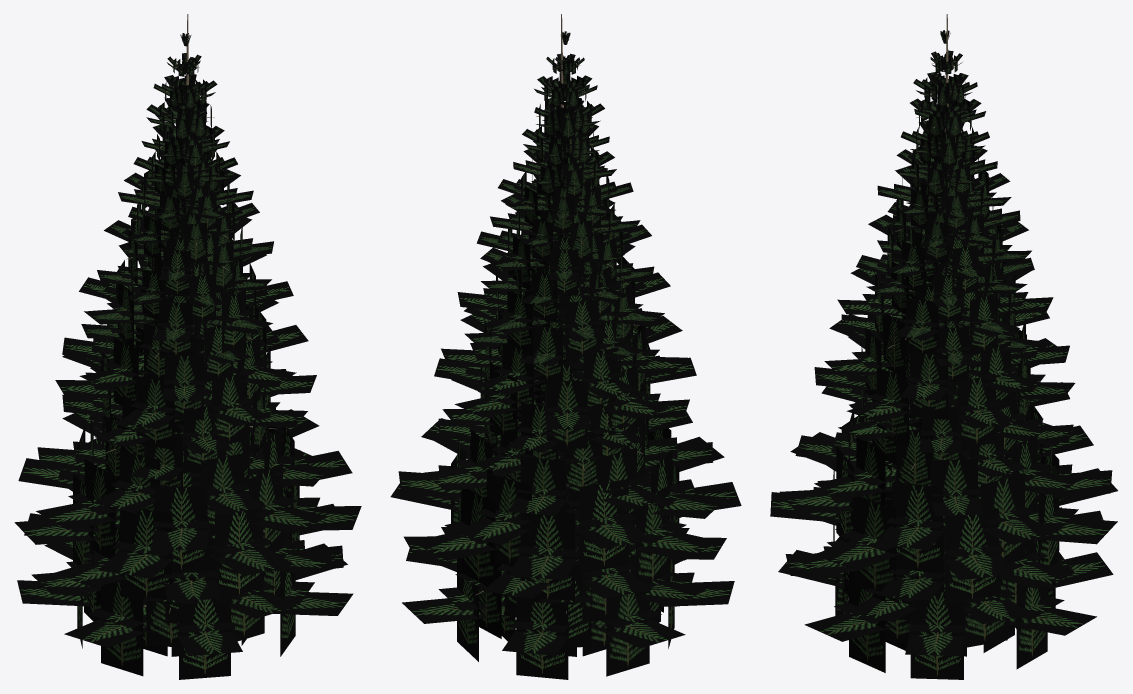
Rendered from Spruce_0_LOD0.glb.
3 renders of one model, left to right at view 1: azimuth 30°, elevation 25°; view 2: azimuth 150°, elevation 25°; view 3: azimuth 270°, elevation 25°, orthographic.
Visible parts, largest first — view 1: Spruce_0_LOD0; view 2: Spruce_0_LOD0; view 3: Spruce_0_LOD0.
Part boxes in pixels (x1,y1,x2,y2): Spruce_0_LOD0: (14,14,361,679); Spruce_0_LOD0: (390,14,741,679); Spruce_0_LOD0: (770,14,1117,679).
Bounding box in the file's own units: 10.79 × 21 × 10.65.
Materials: 2 (1 with a texture image).
